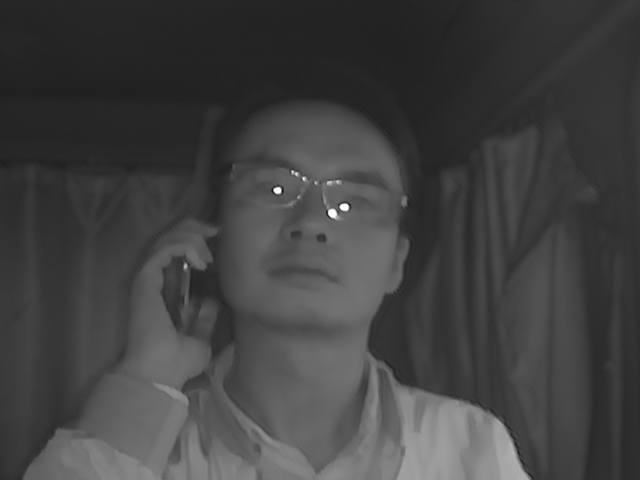hand: (123, 217, 226, 375)
